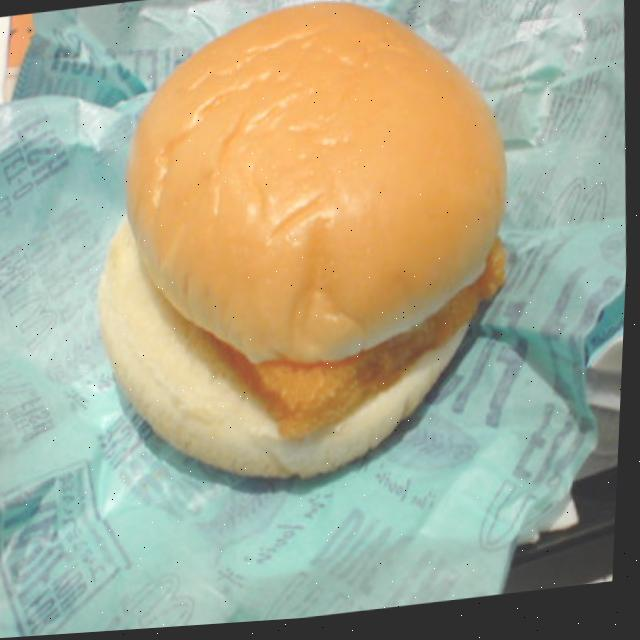汉堡快餐: (35, 0, 560, 520)
